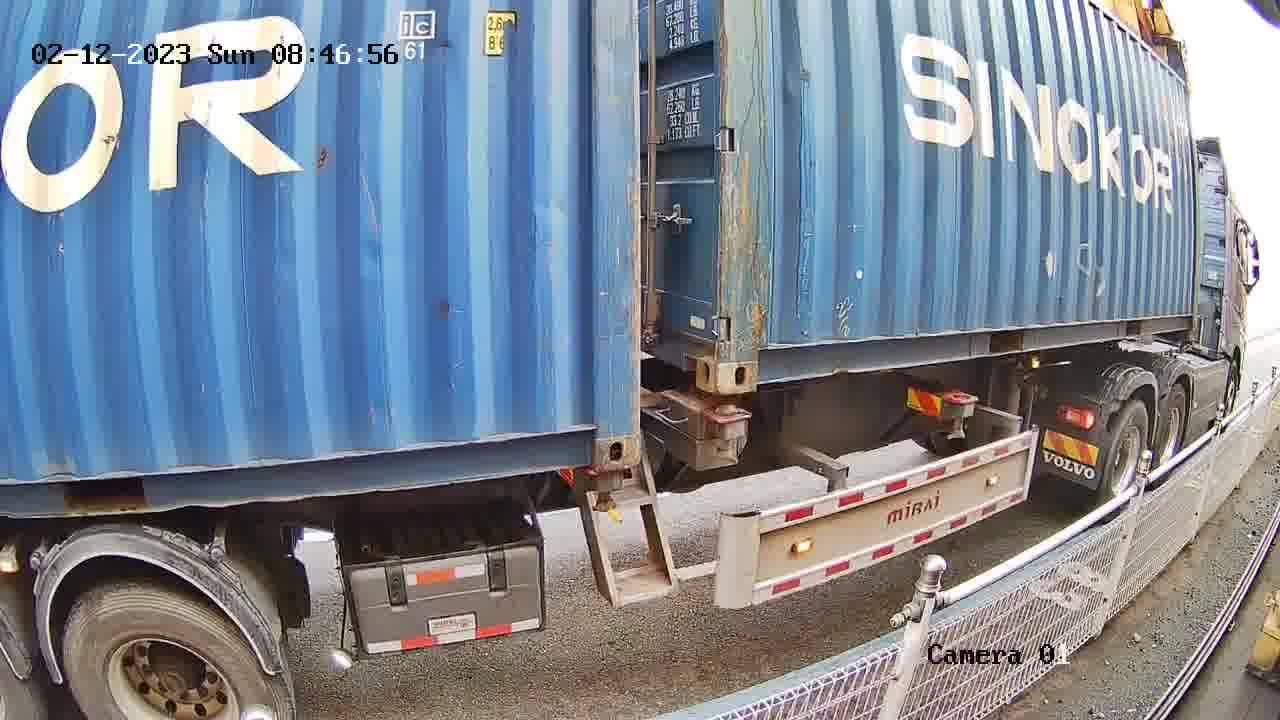Cone: (708, 404, 754, 460), (583, 468, 627, 514)
Hole_L: (715, 323, 790, 393)
Hole_R: (549, 393, 640, 471), (672, 316, 717, 395)
Tire: (63, 589, 288, 719), (1101, 401, 1149, 510), (1149, 388, 1187, 487)
